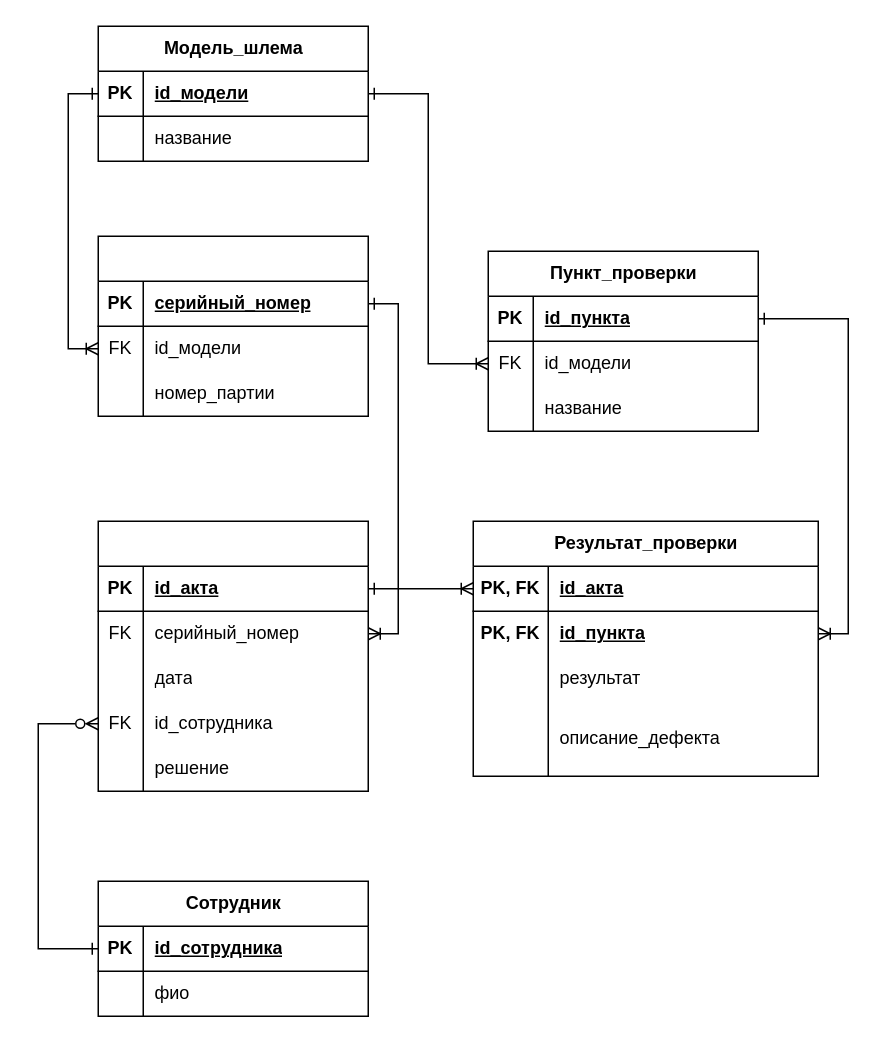
Image size: 888x1043. Some labels were removed from this diagram. Each missing label, with the box of its shape:
Акт_контроля: (97, 520, 368, 791)
Шлем: (97, 235, 368, 416)
